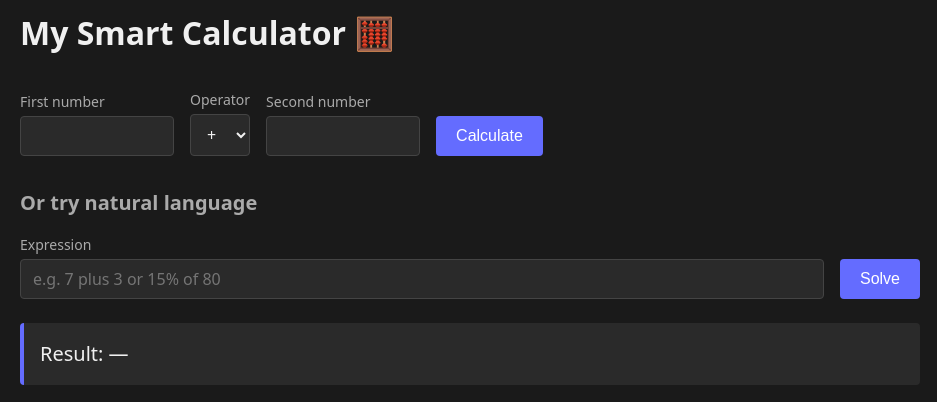
App › [CALC-004] shows error message when API rejects with divide by zero
The image size is (937, 402).
Step 1. Type "10" into the number field labelled "First number" → (97, 136), box [20,116,174,156]
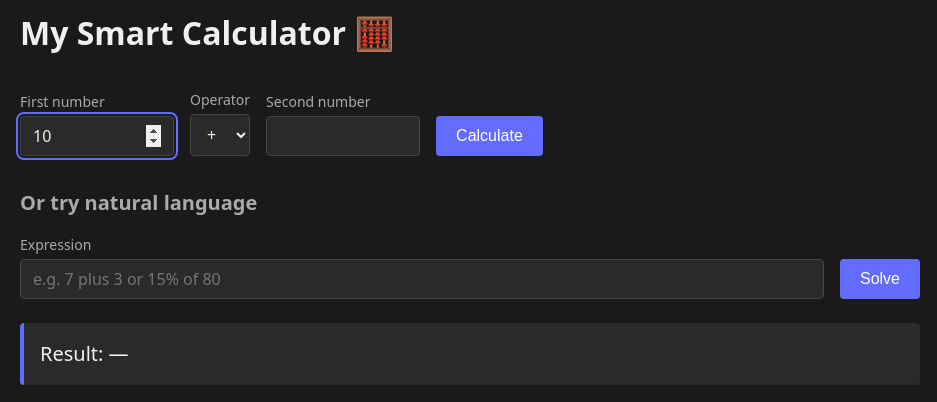
Step 2. Select "/" in the dropdown labelled "Operator" → (220, 135), box [190,114,250,156]
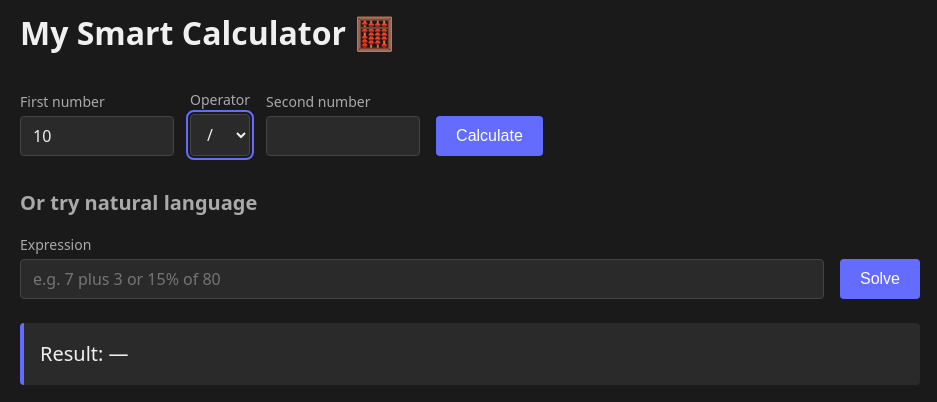
Step 3. Type "0" into the number field labelled "Second number" → (343, 136), box [266,116,420,156]
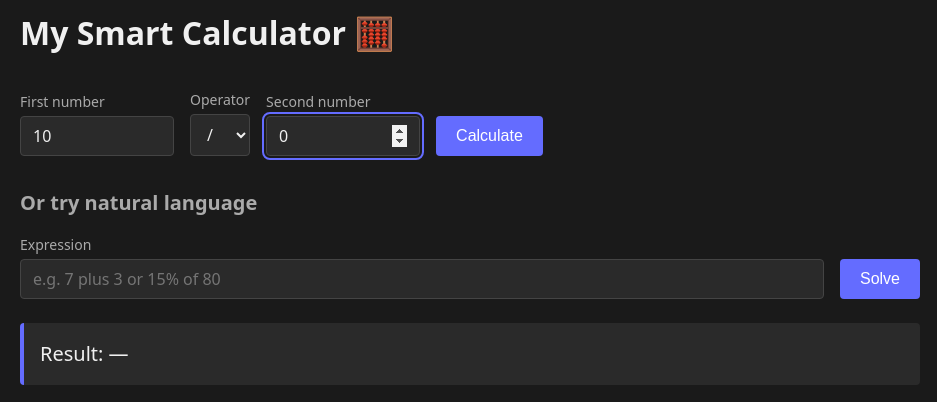
Step 4. Click the button "Calculate" → (489, 136), box [436,116,543,156]
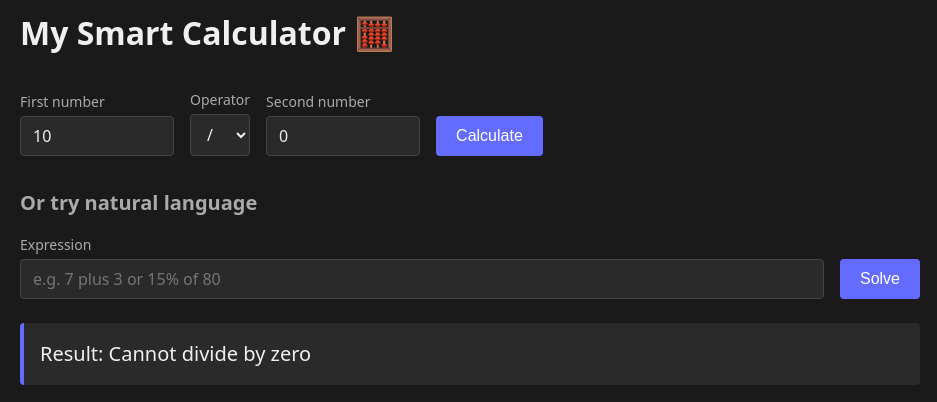
expect the text "Result: Cannot divide by zero" is shown: met, box [20,323,920,385]
